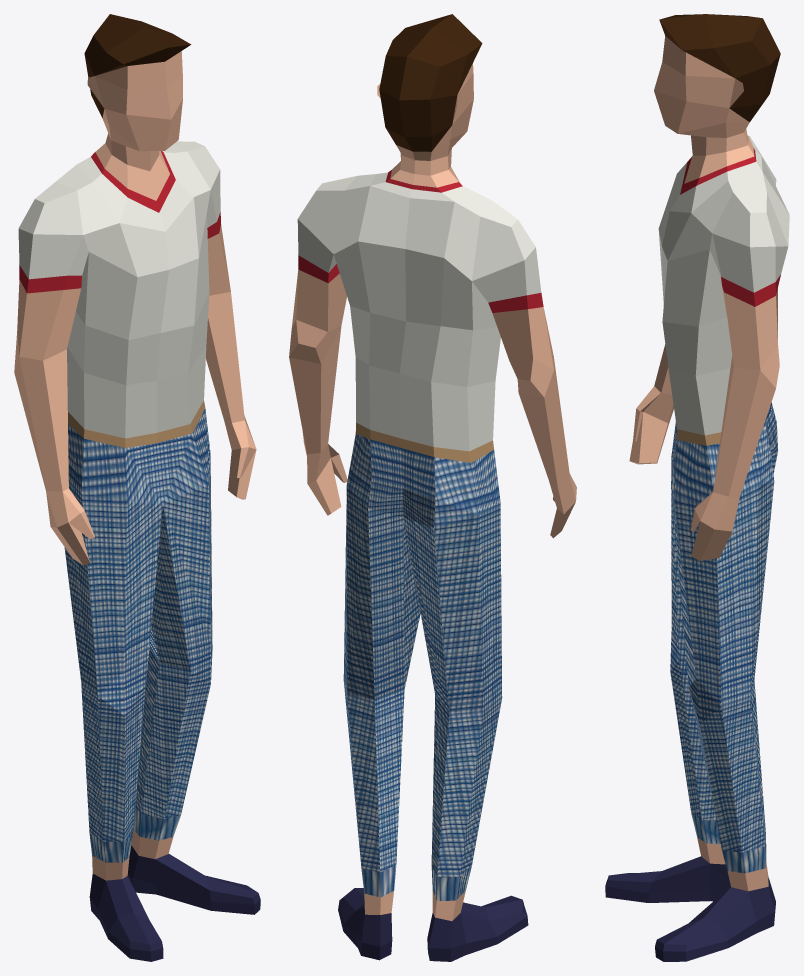
File: SpringManB.006.glb
3 views of the same model, side by side, from view 1: azimuth 30°, elevation 25°; view 2: azimuth 150°, elevation 25°; view 3: azimuth 270°, elevation 25° (orthographic). The views are drawn at different scales.
Visible parts, largest first — view 1: SpringManB.007; view 2: SpringManB.007; view 3: SpringManB.007.
Part boxes in pixels (bbox=[...]): SpringManB.007: bbox=[14, 14, 260, 961]; SpringManB.007: bbox=[289, 14, 576, 961]; SpringManB.007: bbox=[605, 14, 789, 961].
Bounding box in the file's own units: 0.4829 × 1.75 × 0.3253.
Materials: 1 (1 with a texture image).
